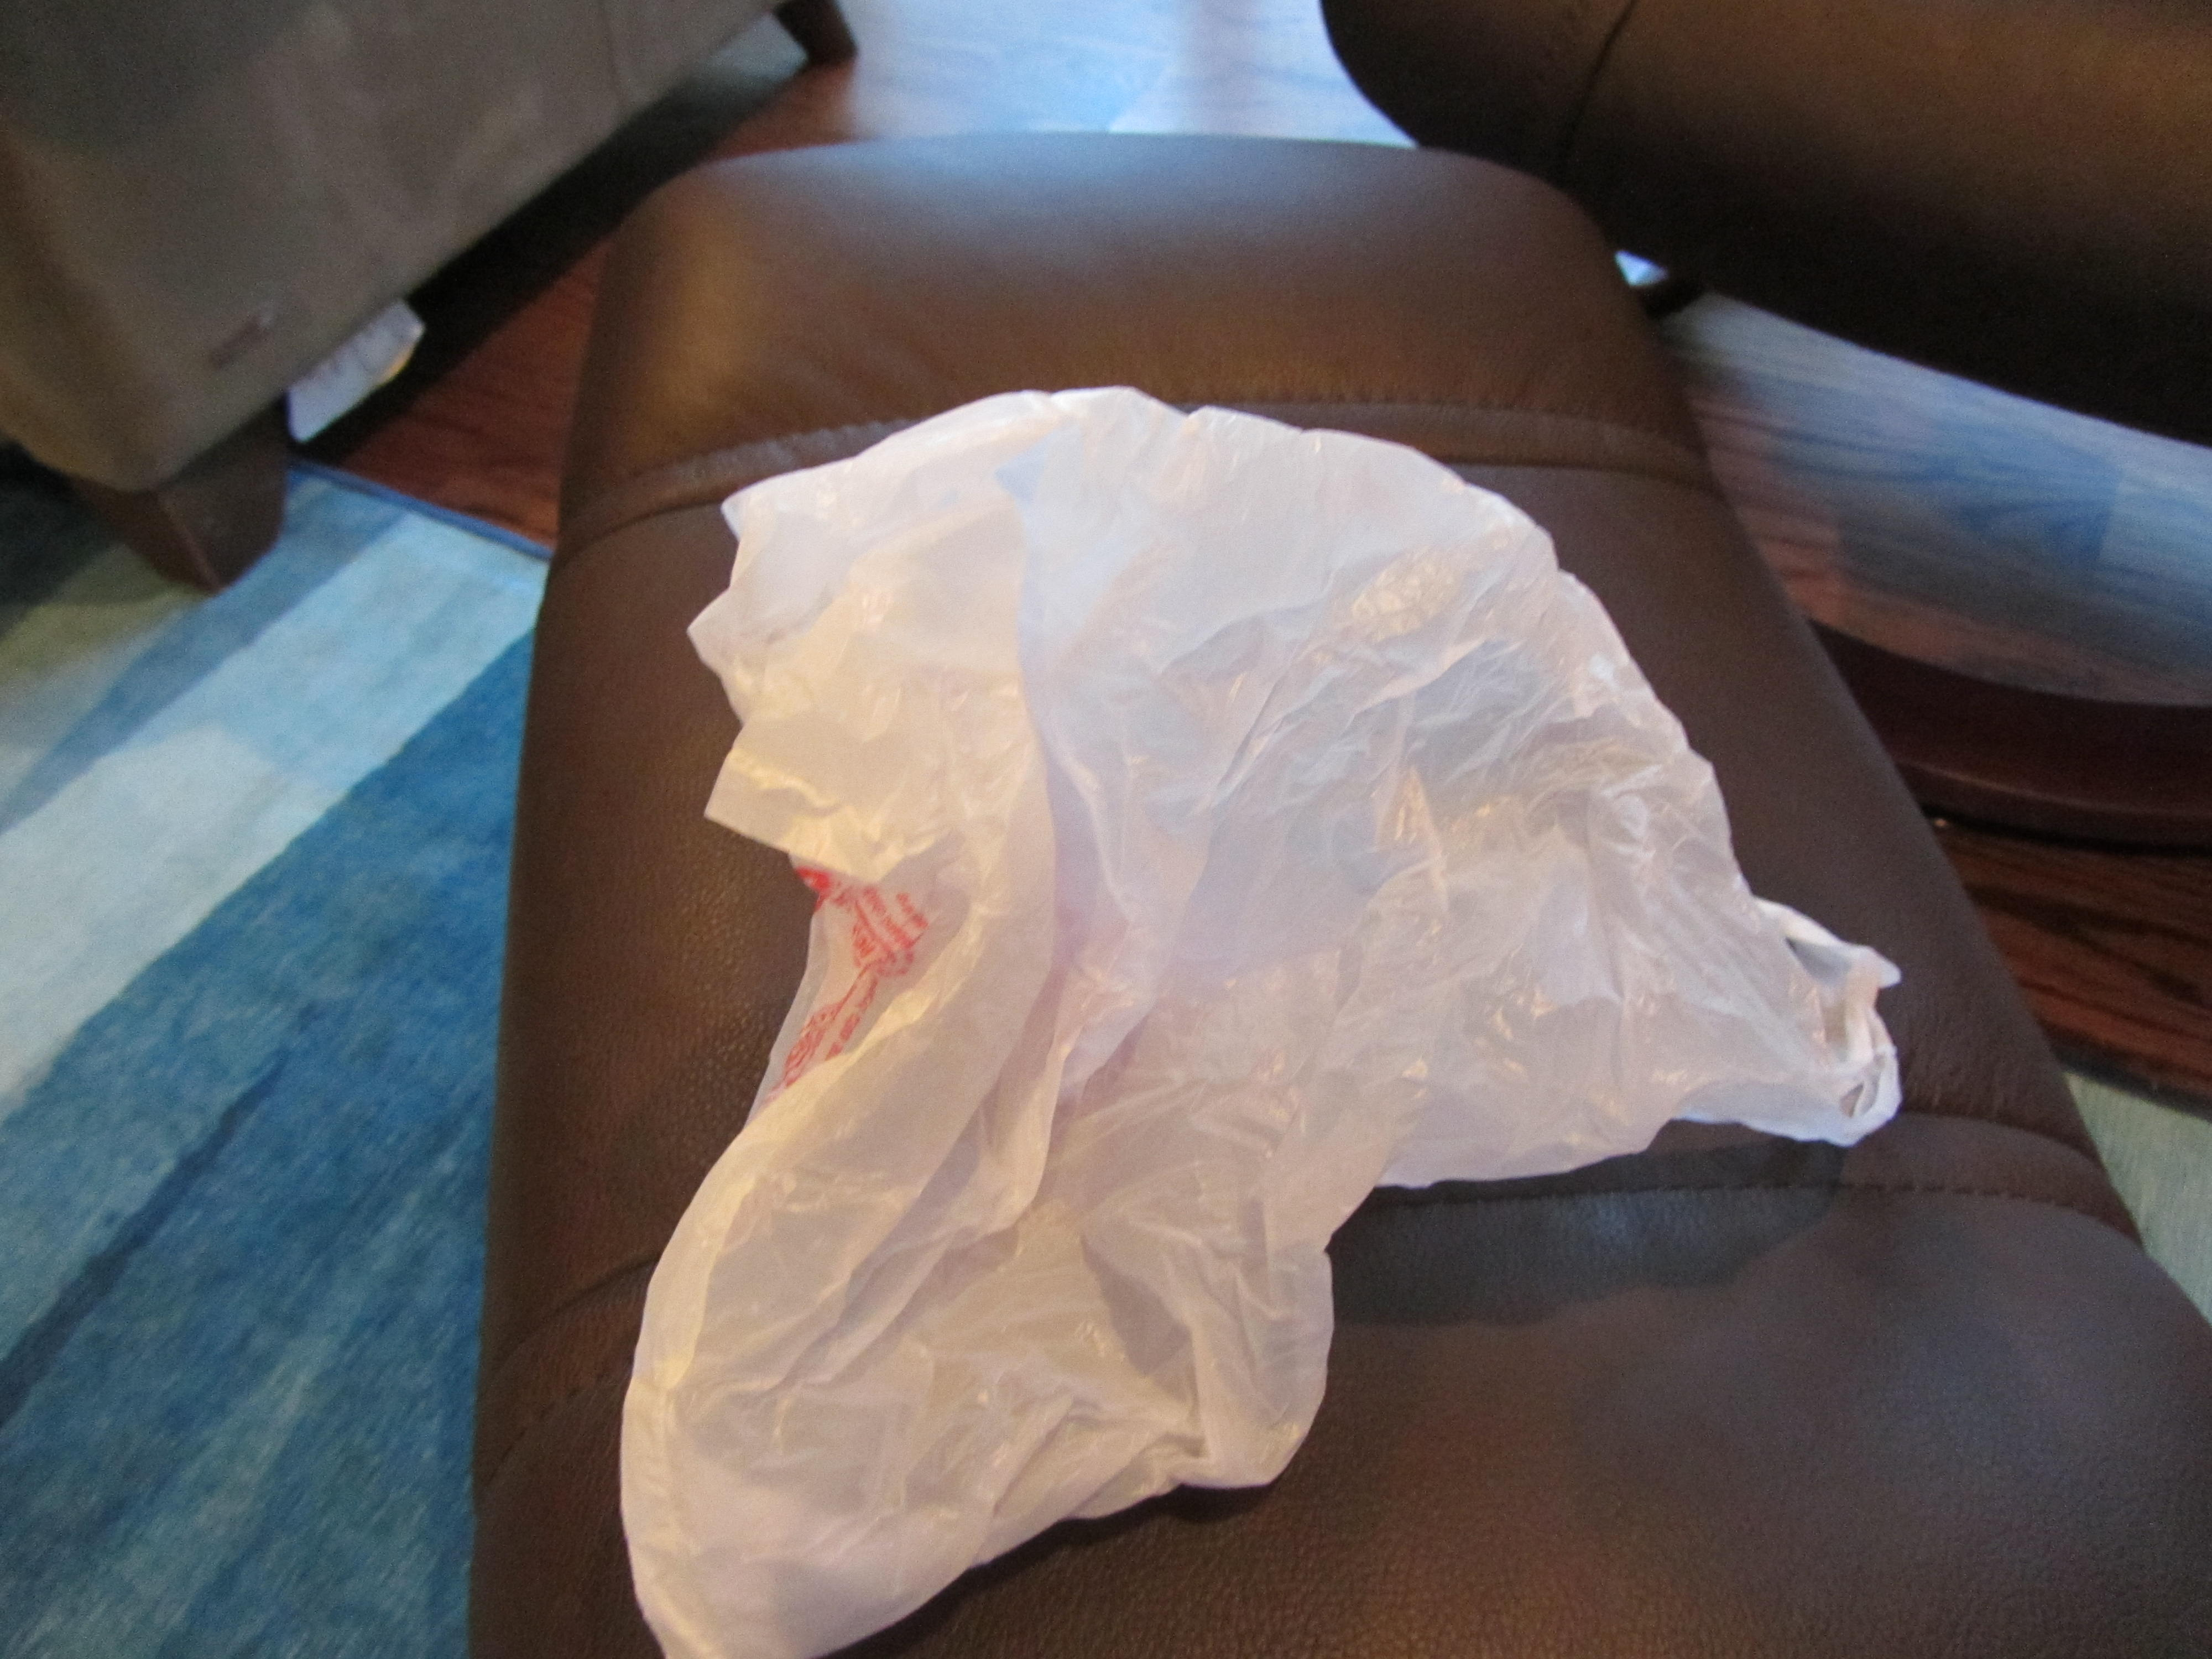plastic_bag: (603, 366, 1919, 1640)
